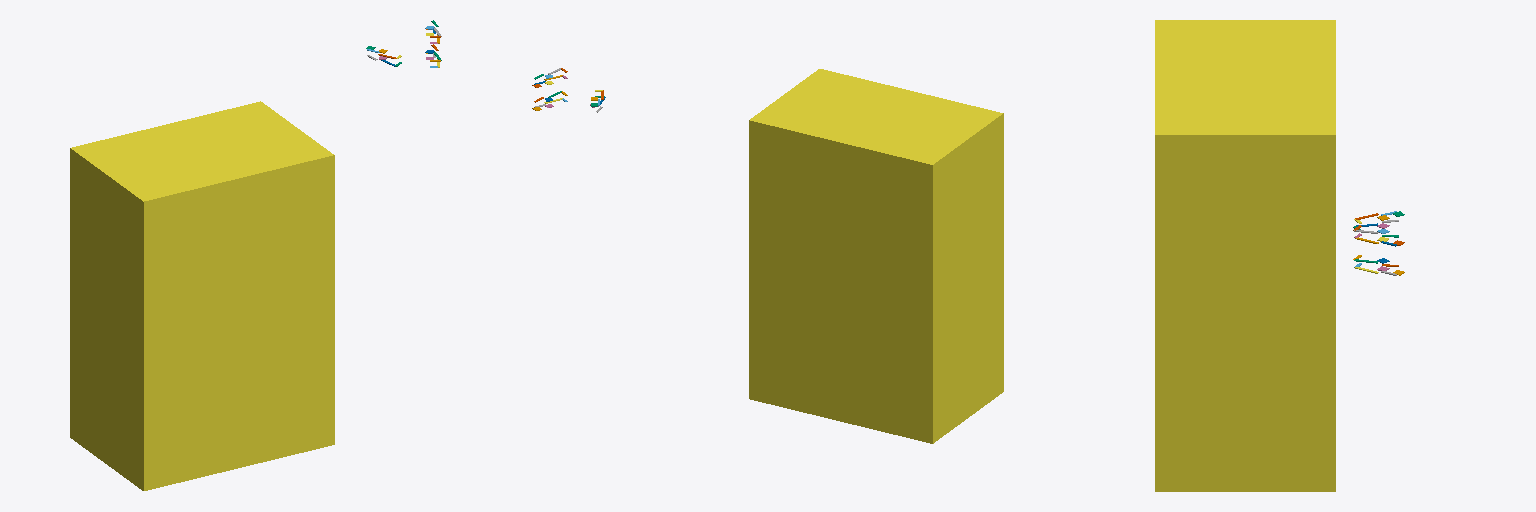
--- What the picture shows (computed from the rendered views, not written in the file) ---
The picture shows the robot from 3 angles, left to right: view 1: azimuth 30°, elevation 25°; view 2: azimuth 150°, elevation 25°; view 3: azimuth 270°, elevation 25°; orthographic projection.
Robot: ur5 — 52 links, 51 joints (45 revolute, 6 fixed); root link world; default pose: every joint at zero.
Links seen in each view (by area): view 1: box_link; view 2: box_link; view 3: box_link.
Boxes of the visible links, box(x1,y1,x2,y2) form: box_link: box(70, 101, 334, 490); box_link: box(749, 69, 1003, 443); box_link: box(1155, 20, 1335, 491).
Size in the robot's own frame: 1.23 by 0.5522 by 0.9115 metres.
Meshes: 12 distinct files referenced, 0 mesh visuals loaded (none loaded); not drawn: 20 (reference not matched to a file when rendering).

URDF robot description (ur5):
<?xml version="1.0" ?>
<!-- =================================================================================== -->
<!-- |    This document was autogenerated by xacro from ur5_joint_limited_box_robot_robotiq3.urdf.xacro | -->
<!-- |    EDITING THIS FILE BY HAND IS NOT RECOMMENDED                                 | -->
<!-- =================================================================================== -->
<robot name="ur5" xmlns:xacro="http://ros.org/wiki/xacro">
  <gazebo>
    <plugin filename="libgazebo_ros_control.so" name="ros_control">
      <!--robotNamespace>/</robotNamespace-->
      <!--robotSimType>gazebo_ros_control/DefaultRobotHWSim</robotSimType-->
    </plugin>
    <!--
    <plugin name="gazebo_ros_power_monitor_controller" filename="libgazebo_ros_power_monitor.so">
      <alwaysOn>true</alwaysOn>
      <updateRate>1.0</updateRate>
      <timeout>5</timeout>
      <powerStateTopic>power_state</powerStateTopic>
      <powerStateRate>10.0</powerStateRate>
      <fullChargeCapacity>87.78</fullChargeCapacity>     
      <dischargeRate>-474</dischargeRate>
      <chargeRate>525</chargeRate>
      <dischargeVoltage>15.52</dischargeVoltage>
      <chargeVoltage>16.41</chargeVoltage>
    </plugin>
-->
  </gazebo>
  <!-- measured from model -->
  <!--property name="shoulder_height" value="0.089159" /-->
  <!--property name="shoulder_offset" value="0.13585" /-->
  <!-- shoulder_offset - elbow_offset + wrist_1_length = 0.10915 -->
  <!--property name="upper_arm_length" value="0.42500" /-->
  <!--property name="elbow_offset" value="0.1197" /-->
  <!-- CAD measured -->
  <!--property name="forearm_length" value="0.39225" /-->
  <!--property name="wrist_1_length" value="0.093" /-->
  <!-- CAD measured -->
  <!--property name="wrist_2_length" value="0.09465" /-->
  <!-- In CAD this distance is 0.930, but in the spec it is 0.09465 -->
  <!--property name="wrist_3_length" value="0.0823" /-->
  <!-- manually measured -->
  <link name="base_link">
    <visual>
      <geometry>
        <mesh filename="package://ur_description/meshes/ur5/visual/base.dae"/>
      </geometry>
      <material name="LightGrey">
        <color rgba="0.7 0.7 0.7 1.0"/>
      </material>
    </visual>
    <collision>
      <geometry>
        <mesh filename="package://ur_description/meshes/ur5/collision/base.stl"/>
      </geometry>
    </collision>
    <inertial>
      <mass value="4.0"/>
      <origin rpy="0 0 0" xyz="0.0 0.0 0.0"/>
      <inertia ixx="0.00443333156" ixy="0.0" ixz="0.0" iyy="0.00443333156" iyz="0.0" izz="0.0072"/>
    </inertial>
  </link>
  <joint name="shoulder_pan_joint" type="revolute">
    <parent link="base_link"/>
    <child link="shoulder_link"/>
    <origin rpy="0.0 0.0 0.0" xyz="0.0 0.0 0.089159"/>
    <axis xyz="0 0 1"/>
    <limit effort="150.0"   lower="-180" upper="3.14159" velocity="3.15"/>
    <dynamics damping="0.0" friction="0.0"/>
  </joint>
  <link name="shoulder_link">
    <visual>
      <geometry>
        <mesh filename="package://ur_description/meshes/ur5/visual/shoulder.dae"/>
      </geometry>
      <material name="LightGrey">
        <color rgba="0.7 0.7 0.7 1.0"/>
      </material>
    </visual>
    <collision>
      <geometry>
        <mesh filename="package://ur_description/meshes/ur5/collision/shoulder.stl"/>
      </geometry>
    </collision>
    <inertial>
      <mass value="3.7"/>
      <origin rpy="0 0 0" xyz="0.0 0.0 0.0"/>
      <inertia ixx="0.010267495893" ixy="0.0" ixz="0.0" iyy="0.010267495893" iyz="0.0" izz="0.00666"/>
    </inertial>
  </link>
  <joint name="shoulder_lift_joint" type="revolute">
    <parent link="shoulder_link"/>
    <child link="upper_arm_link"/>
    <origin rpy="0.0 1.570796325 0.0" xyz="0.0 0.13585 0.0"/>
    <axis xyz="0 1 0"/>
    <limit effort="150.0"   lower="-3.14159" upper="3.14159" velocity="3.15"/>
    <dynamics damping="0.0" friction="0.0"/>
  </joint>
  <link name="upper_arm_link">
    <visual>
      <geometry>
        <mesh filename="package://ur_description/meshes/ur5/visual/upperarm.dae"/>
      </geometry>
      <material name="LightGrey">
        <color rgba="0.7 0.7 0.7 1.0"/>
      </material>
    </visual>
    <collision>
      <geometry>
        <mesh filename="package://ur_description/meshes/ur5/collision/upperarm.stl"/>
      </geometry>
    </collision>
    <inertial>
      <mass value="8.393"/>
      <origin rpy="0 0 0" xyz="0.0 0.0 0.28"/>
      <inertia ixx="0.22689067591" ixy="0.0" ixz="0.0" iyy="0.22689067591" iyz="0.0" izz="0.0151074"/>
    </inertial>
  </link>
  <joint name="elbow_joint" type="revolute">
    <parent link="upper_arm_link"/>
    <child link="forearm_link"/>
    <origin rpy="0.0 0.0 0.0" xyz="0.0 -0.1197 0.425"/>
    <axis xyz="0 1 0"/>
    <limit effort="150.0"   lower="-3.14159" upper="3.14159" velocity="3.15"/>
    <dynamics damping="0.0" friction="0.0"/>
  </joint>
  <link name="forearm_link">
    <visual>
      <geometry>
        <mesh filename="package://ur_description/meshes/ur5/visual/forearm.dae"/>
      </geometry>
      <material name="LightGrey">
        <color rgba="0.7 0.7 0.7 1.0"/>
      </material>
    </visual>
    <collision>
      <geometry>
        <mesh filename="package://ur_description/meshes/ur5/collision/forearm.stl"/>
      </geometry>
    </collision>
    <inertial>
      <mass value="2.275"/>
      <origin rpy="0 0 0" xyz="0.0 0.0 0.25"/>
      <inertia ixx="0.049443313556" ixy="0.0" ixz="0.0" iyy="0.049443313556" iyz="0.0" izz="0.004095"/>
    </inertial>
  </link>
  <joint name="wrist_1_joint" type="revolute">
    <parent link="forearm_link"/>
    <child link="wrist_1_link"/>
    <origin rpy="0.0 1.570796325 0.0" xyz="0.0 0.0 0.39225"/>
    <axis xyz="0 1 0"/>
    <limit effort="28.0"   lower="-3.14159" upper="3.14159" velocity="3.2"/>
    <dynamics damping="0.0" friction="0.0"/>
  </joint>
  <link name="wrist_1_link">
    <visual>
      <geometry>
        <mesh filename="package://ur_description/meshes/ur5/visual/wrist1.dae"/>
      </geometry>
      <material name="LightGrey">
        <color rgba="0.7 0.7 0.7 1.0"/>
      </material>
    </visual>
    <collision>
      <geometry>
        <mesh filename="package://ur_description/meshes/ur5/collision/wrist1.stl"/>
      </geometry>
    </collision>
    <inertial>
      <mass value="1.219"/>
      <origin rpy="0 0 0" xyz="0.0 0.0 0.0"/>
      <inertia ixx="0.111172755531" ixy="0.0" ixz="0.0" iyy="0.111172755531" iyz="0.0" izz="0.21942"/>
    </inertial>
  </link>
  <joint name="wrist_2_joint" type="revolute">
    <parent link="wrist_1_link"/>
    <child link="wrist_2_link"/>
    <origin rpy="0.0 0.0 0.0" xyz="0.0 0.093 0.0"/>
    <axis xyz="0 0 1"/>
    <limit effort="28.0"   lower="-3.14159" upper="3.14159" velocity="3.2"/>
    <dynamics damping="0.0" friction="0.0"/>
  </joint>
  <link name="wrist_2_link">
    <visual>
      <geometry>
        <mesh filename="package://ur_description/meshes/ur5/visual/wrist2.dae"/>
      </geometry>
      <material name="LightGrey">
        <color rgba="0.7 0.7 0.7 1.0"/>
      </material>
    </visual>
    <collision>
      <geometry>
        <mesh filename="package://ur_description/meshes/ur5/collision/wrist2.stl"/>
      </geometry>
    </collision>
    <inertial>
      <mass value="1.219"/>
      <origin rpy="0 0 0" xyz="0.0 0.0 0.0"/>
      <inertia ixx="0.111172755531" ixy="0.0" ixz="0.0" iyy="0.111172755531" iyz="0.0" izz="0.21942"/>
    </inertial>
  </link>
  <joint name="wrist_3_joint" type="revolute">
    <parent link="wrist_2_link"/>
    <child link="wrist_3_link"/>
    <origin rpy="0.0 0.0 0.0" xyz="0.0 0.0 0.09465"/>
    <axis xyz="0 1 0"/>
    <limit effort="28.0"   lower="-3.14159" upper="3.14159" velocity="3.2"/>
    <dynamics damping="0.0" friction="0.0"/>
  </joint>
  <link name="wrist_3_link">
    <visual>
      <geometry>
        <mesh filename="package://ur_description/meshes/ur5/visual/wrist3.dae"/>
      </geometry>
      <material name="LightGrey">
        <color rgba="0.7 0.7 0.7 1.0"/>
      </material>
    </visual>
    <collision>
      <geometry>
        <mesh filename="package://ur_description/meshes/ur5/collision/wrist3.stl"/>
      </geometry>
    </collision>
    <inertial>
      <mass value="0.1879"/>
      <origin rpy="0 0 0" xyz="0.0 0.0 0.0"/>
      <inertia ixx="0.0171364731454" ixy="0.0" ixz="0.0" iyy="0.0171364731454" iyz="0.0" izz="0.033822"/>
    </inertial>
  </link>
  <joint name="ee_fixed_joint" type="fixed">
    <parent link="wrist_3_link"/>
    <child link="ee_link"/>
    <origin rpy="0.0 0.0 1.570796325" xyz="0.0 0.0823 0.0"/>
  </joint>
  <link name="ee_link">
    <collision>
      <geometry>
        <box size="0.01 0.01 0.01"/>
      </geometry>
      <origin rpy="0 0 0" xyz="-0.01 0 0"/>
    </collision>
  </link>
  <transmission name="shoulder_pan_trans">
    <type>transmission_interface/SimpleTransmission</type>
    <joint name="shoulder_pan_joint">
      <hardwareInterface>PositionJointInterface</hardwareInterface>
    </joint>
    <actuator name="shoulder_pan_motor">
      <mechanicalReduction>1</mechanicalReduction>
    </actuator>
  </transmission>
  <transmission name="shoulder_lift_trans">
    <type>transmission_interface/SimpleTransmission</type>
    <joint name="shoulder_lift_joint">
      <hardwareInterface>PositionJointInterface</hardwareInterface>
    </joint>
    <actuator name="shoulder_lift_motor">
      <mechanicalReduction>1</mechanicalReduction>
    </actuator>
  </transmission>
  <transmission name="elbow_trans">
    <type>transmission_interface/SimpleTransmission</type>
    <joint name="elbow_joint">
      <hardwareInterface>PositionJointInterface</hardwareInterface>
    </joint>
    <actuator name="elbow_motor">
      <mechanicalReduction>1</mechanicalReduction>
    </actuator>
  </transmission>
  <transmission name="wrist_1_trans">
    <type>transmission_interface/SimpleTransmission</type>
    <joint name="wrist_1_joint">
      <hardwareInterface>PositionJointInterface</hardwareInterface>
    </joint>
    <actuator name="wrist_1_motor">
      <mechanicalReduction>1</mechanicalReduction>
    </actuator>
  </transmission>
  <transmission name="wrist_2_trans">
    <type>transmission_interface/SimpleTransmission</type>
    <joint name="wrist_2_joint">
      <hardwareInterface>PositionJointInterface</hardwareInterface>
    </joint>
    <actuator name="wrist_2_motor">
      <mechanicalReduction>1</mechanicalReduction>
    </actuator>
  </transmission>
  <transmission name="wrist_3_trans">
    <type>transmission_interface/SimpleTransmission</type>
    <joint name="wrist_3_joint">
      <hardwareInterface>PositionJointInterface</hardwareInterface>
    </joint>
    <actuator name="wrist_3_motor">
      <mechanicalReduction>1</mechanicalReduction>
    </actuator>
  </transmission>
  <!-- nothing to do here at the moment -->
  <!-- ROS base_link to UR 'Base' Coordinates transform -->
  <link name="base"/>
  <joint name="base_link-base_fixed_joint" type="fixed">
    <!-- NOTE: this rotation is only needed as long as base_link itself is
                 not corrected wrt the real robot (ie: rotated over 180
                 degrees)
      -->
    <origin rpy="0 0 -3.14159265" xyz="0 0 0"/>
    <parent link="base_link"/>
    <child link="base"/>
  </joint>
  <!-- Frame coincident with all-zeros TCP on UR controller -->
  <link name="tool0"/>
  <joint name="wrist_3_link-tool0_fixed_joint" type="fixed">
    <origin rpy="-1.570796325 0 0" xyz="0 0.0823 0"/>
    <parent link="wrist_3_link"/>
    <child link="tool0"/>
  </joint>
  <link name="world"/>
  <!-- box -->
  <link name="box_link">
    <visual>
      <geometry>
        <box size=".6 .4 0.87"/>
      </geometry>
    </visual>
  </link>
  <!-- attach the box to the world-->
  <joint name="world_joint" type="fixed">
    <parent link="world"/>
    <child link="box_link"/>
    <origin rpy="0.0 0.0 0.0" xyz="0.0 0 0.435"/>
  </joint>
  <!-- attach the robot to the box -->
  <joint name="box_joint" type="fixed">
    <parent link="box_link"/>
    <child link="base_link"/>
    <origin rpy="0.0 0.0 0.0" xyz="0.0 0.0 0.435"/>
  </joint>
  <!-- joint attaching parent link to robotiq hand -->
  <joint name="gripperrobotiq_hand_joint" type="fixed">
    <origin rpy="1.570796325 0 0" xyz="0 0 0.0423"/>
    <parent link="tool0"/>
    <child link="gripperpalm"/>
  </joint>
  <!-- Link list -->
  <!-- Link 0 -->
  <link name="gripperfinger_1_link_0">
    <visual>
      <origin rpy="0 0 0" xyz="0 0 0"/>
      <geometry>
        <mesh filename="package://robotiq_s_model_visualization/meshes/s-model_articulated/visual/link_0.STL"/>
      </geometry>
      <material name="green">
        <color rgba="0 1 0 1"/>
      </material>
    </visual>
    <collision>
      <origin rpy="0 0 0" xyz="0 0 0"/>
      <geometry>
        <mesh filename="package://robotiq_s_model_visualization/meshes/s-model_articulated/collision/link_0.STL"/>
      </geometry>
      <material name="yellow">
        <color rgba="0 1 1 1"/>
      </material>
    </collision>
    <inertial>
      <mass value="0.1"/>
      <origin xyz="-0.01 0 0"/>
      <inertia ixx="0.000018" ixy="0" ixz="0" iyy="0.000025" iyz="0" izz="0.000025"/>
    </inertial>
  </link>
  <gazebo reference="gripperfinger_1_link_0">
    <mu1>1.1</mu1>
    <mu2>1.1</mu2>
  </gazebo>
  <!-- Link 1 -->
  <link name="gripperfinger_1_link_1">
    <visual>
      <origin rpy="0 0 1.5708" xyz="0 0.05717 0"/>
      <geometry>
        <mesh filename="package://robotiq_s_model_visualization/meshes/s-model_articulated/visual/link_1.STL"/>
      </geometry>
      <material name="green"/>
    </visual>
    <collision>
      <origin rpy="0 0 1.5708" xyz="0 0.05717 0"/>
      <geometry>
        <mesh filename="package://robotiq_s_model_visualization/meshes/s-model_articulated/collision/link_1.STL"/>
      </geometry>
      <material name="yellow">
        <color rgba="0 1 1 1"/>
      </material>
    </collision>
    <inertial>
      <origin rpy="0 0 1.5708" xyz="0.00053 0.03218 0"/>
      <mass value="0.047"/>
      <inertia ixx="0.00000499332" ixy="0.00000091312" ixz="-0.00000000120" iyy="0.00006434531" iyz="-0.00000000007" izz="0.00006061917"/>
    </inertial>
  </link>
  <gazebo reference="gripperfinger_1_link_1">
    <mu1>1.1</mu1>
    <mu2>1.1</mu2>
  </gazebo>
  <!-- Link 2 -->
  <link name="gripperfinger_1_link_2">
    <visual>
      <origin rpy="0 0 1.5708" xyz="0 0.03810 0.0075"/>
      <geometry>
        <mesh filename="package://robotiq_s_model_visualization/meshes/s-model_articulated/visual/link_2.STL"/>
      </geometry>
      <material name="green"/>
    </visual>
    <collision>
      <origin rpy="0 0 1.5708" xyz="0 0.03810 0.0075"/>
      <geometry>
        <mesh filename="package://robotiq_s_model_visualization/meshes/s-model_articulated/collision/link_2.STL"/>
      </geometry>
      <material name="yellow"/>
    </collision>
    <inertial>
      <origin rpy="0 0 1.5708" xyz="0.00048 0.02167 0.00018"/>
      <mass value="0.03284"/>
      <inertia ixx="0.00000348008" ixy="0.00000031940" ixz="0.00000013041" iyy="0.00002248123" iyz="0.00000000291" izz="0.00001986346"/>
    </inertial>
  </link>
  <gazebo reference="gripperfinger_1_link_2">
    <mu1>1.1</mu1>
    <mu2>1.1</mu2>
  </gazebo>
  <!-- Link 3 -->
  <link name="gripperfinger_1_link_3">
    <visual>
      <origin rpy="0 0 0" xyz="0 0 0"/>
      <geometry>
        <mesh filename="package://robotiq_s_model_visualization/meshes/s-model_articulated/visual/link_3.STL"/>
      </geometry>
      <material name="green"/>
    </visual>
    <collision>
      <origin rpy="0 0 0" xyz="0 0 0"/>
      <geometry>
        <mesh filename="package://robotiq_s_model_visualization/meshes/s-model_articulated/collision/link_3.STL"/>
      </geometry>
      <material name="yellow"/>
    </collision>
    <inertial>
      <origin rpy="0 0 0" xyz="0.01626 0.00049 0.0002"/>
      <mass value="0.03354"/>
      <inertia ixx="0.00000305151" ixy="0.00000089792" ixz="0.00000000249" iyy="0.00001427978" iyz="-0.00000001191" izz="0.00001264126"/>
    </inertial>
  </link>
  <gazebo reference="gripperfinger_1_link_3">
    <mu1>1.1</mu1>
    <mu2>1.1</mu2>
  </gazebo>
  <!-- Link proximal actuating hinge -->
  <link name="gripperfinger_1_link_proximal_actuating_hinge">
    <visual>
      <origin rpy="0 0 0" xyz="0.01429 0 0"/>
      <geometry>
        <box size="0.02858 .0075 .002"/>
      </geometry>
    </visual>
    <collision>
      <origin rpy="0 0 0" xyz="0.01429 0 0"/>
      <geometry>
        <box size="0.02858 .0075 .002"/>
      </geometry>
    </collision>
    <inertial>
      <origin rpy="0 0 0" xyz="0.0012 -0.00162 -0.00161"/>
      <mass value="0.02647"/>
      <inertia ixx="0.00000156447" ixy="0.000000236226" ixz="-0.00000014862" iyy="0.00000221068" iyz="-0.00000014369" izz="0.00000323175"/>
    </inertial>
  </link>
  <gazebo reference="gripperfinger_1_link_proximal_actuating_hinge">
    <mu1>1.1</mu1>
    <mu2>1.1</mu2>
  </gazebo>
  <!-- Link paraproximal actuating hinge -->
  <link name="gripperfinger_1_link_paraproximal_actuating_hinge">
    <visual>
      <origin rpy="0 0 0" xyz="0.01143 0 0"/>
      <geometry>
        <box size="0.02286 .0075 .002"/>
      </geometry>
    </visual>
    <collision>
      <origin rpy="0 0 0" xyz="0.01143 0 0"/>
      <geometry>
        <box size="0.02286 .0075 .002"/>
      </geometry>
    </collision>
    <inertial>
      <origin rpy="0 0 0" xyz="0.0064 0 0"/>
      <!-- copied from proximal_actuating_hinge -->
      <mass value="0.00362"/>
      <inertia ixx="0.00000012043" ixy="0" ixz="0" iyy="0.00000053588" iyz="0" izz="0.00000065322"/>
    </inertial>
  </link>
  <gazebo reference="gripperfinger_1_link_paraproximal_actuating_hinge">
    <mu1>1.1</mu1>
    <mu2>1.1</mu2>
  </gazebo>
  <!-- Link proximal actuating bar -->
  <link name="gripperfinger_1_link_proximal_actuating_bar">
    <visual>
      <origin rpy="0 0 0" xyz="0.026789 0 0"/>
      <geometry>
        <box size="0.05398 .0075 .002"/>
      </geometry>
    </visual>
    <collision>
      <origin rpy="0 0 0" xyz="0.026789 0 0"/>
      <geometry>
        <box size="0.05398 .0075 .002"/>
      </geometry>
    </collision>
    <inertial>
      <origin rpy="0 0 0" xyz="0.02699 -0.00122 0"/>
      <mass value="0.00659"/>
      <inertia ixx="0.00000008348" ixy="-0.0000002179" ixz="0.00000000134" iyy="0.00000719076" iyz="0" izz="0.00000718272"/>
    </inertial>
  </link>
  <gazebo reference="gripperfinger_1_link_proximal_actuating_bar">
    <mu1>1.1</mu1>
    <mu2>1.1</mu2>
  </gazebo>
  <!-- Link paraproximal bar -->
  <link name="gripperfinger_1_link_paraproximal_bar">
    <visual>
      <origin rpy="0 0 0" xyz="0.02885 0 0"/>
      <geometry>
        <box size="0.05770 .0075 .002"/>
      </geometry>
    </visual>
    <collision>
      <origin rpy="0 0 0" xyz="0.02885 0 0"/>
      <geometry>
        <box size="0.05770 .0075 .002"/>
      </geometry>
    </collision>
    <inertial>
      <origin rpy="0 0 0" xyz="0.02858 -0.00129 0"/>
      <mass value="0.00732"/>
      <inertia ixx="0.00000009065" ixy="-0.00000027047" ixz="0.00000000142" iyy="0.00000878034" iyz="0" izz="0.00000877558"/>
    </inertial>
  </link>
  <gazebo reference="gripperfinger_1_link_paraproximal_bar">
    <mu1>1.1</mu1>
    <mu2>1.1</mu2>
  </gazebo>
  <!-- Link median actuating hinge -->
  <link name="gripperfinger_1_link_median_actuating_hinge">
    <visual>
      <origin rpy="0 0 0" xyz="0 0 0"/>
      <geometry>
        <box size=".02 .02 .002"/>
      </geometry>
    </visual>
    <collision>
      <origin rpy="0 0 0" xyz="0 0 0"/>
      <geometry>
        <box size=".02 .02 .002"/>
      </geometry>
    </collision>
    <inertial>
      <origin rpy="0 0 0" xyz="0.0092 0.00514 0"/>
      <mass value="0.00359"/>
      <inertia ixx="0.00000024735" ixy="0.00000023619" ixz="0" iyy="0.00000047681" iyz="0" izz="0.00000071813"/>
    </inertial>
  </link>
  <gazebo reference="gripperfinger_1_link_median_actuating_hinge">
    <mu1>1.1</mu1>
    <mu2>1.1</mu2>
  </gazebo>
  <!-- Link median bar -->
  <link name="gripperfinger_1_link_median_bar">
    <visual>
      <origin rpy="0 0 0" xyz="0.01905 0 0"/>
      <geometry>
        <box size="0.0381 .0075 .002"/>
      </geometry>
    </visual>
    <collision>
      <origin rpy="0 0 0" xyz="0.01905 0 0"/>
      <geometry>
        <box size="0.0381 .0075 .002"/>
      </geometry>
    </collision>
    <inertial>
      <origin rpy="0 0 0" xyz="0.01905 -0.00107 0"/>
      <mass value="0.00538"/>
      <inertia ixx="0.00000006639" ixy="-0.00000010996" ixz="0.00000000094" iyy="0.00000305318" iyz="0" izz="0.00000304657"/>
    </inertial>
  </link>
  <gazebo reference="gripperfinger_1_link_median_bar">
    <mu1>1.1</mu1>
    <mu2>1.1</mu2>
  </gazebo>
  <!-- Link paramedian hinge -->
  <link name="gripperfinger_1_link_paramedian_hinge">
    <visual>
      <origin rpy="0 0 0" xyz="0 0 0"/>
      <geometry>
        <box size=".02 .02 .002"/>
      </geometry>
    </visual>
    <collision>
      <origin rpy="0 0 0" xyz="0 0 0"/>
      <geometry>
        <box size=".02 .02 .002"/>
      </geometry>
    </collision>
    <inertial>
      <origin rpy="0 0 0" xyz="-0.01025 0.00046 0"/>
      <mass value="0.00276"/>
      <inertia ixx="0.00000004213" ixy="-0.00000001491" ixz="0" iyy="0.00000050258" iyz="0" izz="0.00000054007"/>
    </inertial>
  </link>
  <gazebo reference="gripperfinger_1_link_paramedian_hinge">
    <mu1>1.1</mu1>
    <mu2>1.1</mu2>
  </gazebo>
  <!-- Link median bar underactuated -->
  <link name="gripperfinger_1_link_median_bar_underactuated">
    <visual>
      <origin rpy="0 0 0" xyz="0.01905 0 0"/>
      <geometry>
        <box size="0.0381 .0075 .002"/>
      </geometry>
    </visual>
    <collision>
      <origin rpy="0 0 0" xyz="0.01905 0 0"/>
      <geometry>
        <box size="0.0381 .0075 .002"/>
      </geometry>
    </collision>
    <inertial>
      <origin rpy="0 0 0" xyz="0.01905 -0.00107 0"/>
      <mass value="0.00538"/>
      <inertia ixx="0.00000006639" ixy="-0.00000010996" ixz="-0.00000000094" iyy="0.00000305318" iyz="0" izz="0.00000304657"/>
    </inertial>
  </link>
  <gazebo reference="gripperfinger_1_link_median_bar_underactuated">
    <mu1>1.1</mu1>
    <mu2>1.1</mu2>
  </gazebo>
  <!-- Link paradistal hinge -->
  <link name="gripperfinger_1_link_paradistal_hinge">
    <visual>
      <origin rpy="0 0 0" xyz="0 0 0"/>
      <geometry>
        <box size=".02 .02 .002"/>
      </geometry>
    </visual>
    <collision>
      <origin rpy="0 0 0" xyz="0 0 0"/>
      <geometry>
        <box size=".02 0.02 .002"/>
      </geometry>
    </collision>
    <inertial>
      <origin rpy="0 0 0" xyz="0.00548 0 0"/>
      <mass value="0.00158"/>
      <inertia ixx="0.00000001907" ixy="0" ixz="0" iyy="0.00000010970" iyz="0" izz="0.00000012610"/>
    </inertial>
  </link>
  <gazebo reference="gripperfinger_1_link_paradistal_hinge">
    <mu1>1.1</mu1>
    <mu2>1.1</mu2>
  </gazebo>
  <!-- End of link list -->
  <!-- Joint list -->
  <!-- Joint proximal actuating hinge -->
  <joint name="gripperfinger_1_joint_proximal_actuating_hinge" type="revolute">
    <parent link="gripperfinger_1_link_0"/>
    <child link="gripperfinger_1_link_proximal_actuating_hinge"/>
    <axis xyz="0 0 1"/>
    <origin rpy="0 0 -2.0906" xyz="0 0 0.01"/>
    <limit effort="100" lower="-3.1416" upper="3.1416" velocity="100"/>
  </joint>
  <gazebo reference="gripperfinger_1_joint_proximal_actuating_hinge">
    <implicitSpringDamper>1</implicitSpringDamper>
  </gazebo>
  <!-- Joint paraproximal actuating hinge -->
  <joint name="gripperfinger_1_joint_paraproximal_actuating_hinge" type="revolute">
    <parent link="gripperfinger_1_link_0"/>
    <child link="gripperfinger_1_link_paraproximal_actuating_hinge"/>
    <axis xyz="0 0 1"/>
    <origin rpy="0 0 -2.0906" xyz="0 0 -0.01"/>
    <limit effort="100" lower="-3.1416" upper="3.1416" velocity="100"/>
  </joint>
  <gazebo reference="gripperfinger_1_joint_paraproximal_actuating_hinge">
    <implicitSpringDamper>1</implicitSpringDamper>
  </gazebo>
  <!-- Joint proximal actuating bar -->
  <joint name="gripperfinger_1_joint_proximal_actuating_bar" type="revolute">
    <parent link="gripperfinger_1_link_proximal_actuating_hinge"/>
    <child link="gripperfinger_1_link_proximal_actuating_bar"/>
    <axis xyz="0 0 1"/>
    <origin rpy="0 0 1.8616" xyz="0.02858 0 0"/>
    <limit effort="100" lower="-3.1416" upper="3.1416" velocity="100"/>
  </joint>
  <gazebo reference="gripperfinger_1_joint_proximal_actuating_bar">
    <implicitSpringDamper>1</implicitSpringDamper>
  </gazebo>
  <!-- Joint paraproximal bar -->
  <joint name="gripperfinger_1_joint_paraproximal_bar" type="revolute">
    <parent link="gripperfinger_1_link_paraproximal_actuating_hinge"/>
    <child link="gripperfinger_1_link_paraproximal_bar"/>
    <axis xyz="0 0 1"/>
    <origin rpy="0 0 1.57" xyz="0.02286 0 0"/>
    <limit effort="100" lower="-3.1416" upper="3.1416" velocity="100"/>
  </joint>
  <gazebo reference="gripperfinger_1_joint_paraproximal_bar">
    <implicitSpringDamper>1</implicitSpringDamper>
  </gazebo>
  <!-- Joint median actuating hinge -->
  <joint name="gripperfinger_1_joint_median_actuating_hinge" type="revolute">
    <parent link="gripperfinger_1_link_1"/>
    <child link="gripperfinger_1_link_median_actuating_hinge"/>
    <axis xyz="0 0 1"/>
    <origin rpy="0 0 -0.37" xyz="0 0.05715 0.01"/>
    <limit effort="100" lower="-3.1416" upper="3.1416" velocity="100"/>
  </joint>
  <gazebo reference="gripperfinger_1_joint_median_actuating_hinge">
    <implicitSpringDamper>1</implicitSpringDamper>
  </gazebo>
  <!-- Joint paramedian hinge -->
  <joint name="gripperfinger_1_joint_paramedian_hinge" type="revolute">
    <parent link="gripperfinger_1_link_1"/>
    <child link="gripperfinger_1_link_paramedian_hinge"/>
    <axis xyz="0 0 1"/>
    <!-- -0.37 is hand picked, 0.9719 is hand calculated from atan(0.02381/0.01625) -->
    <origin rpy="0 0 0" xyz="0 0.05715 -0.01"/>
    <limit effort="100" lower="-3.1416" upper="3.1416" velocity="100"/>
  </joint>
  <gazebo reference="gripperfinger_1_joint_paramedian_hinge">
    <implicitSpringDamper>1</implicitSpringDamper>
  </gazebo>
  <!-- Joint median actuating hinge median bar -->
  <joint name="gripperfinger_1_joint_median_actuating_hinge_median_bar" type="revolute">
    <parent link="gripperfinger_1_link_median_actuating_hinge"/>
    <child link="gripperfinger_1_link_median_bar"/>
    <axis xyz="0 0 1"/>
    <!-- hand calc 90 deg + atan(0.01516/0.01625) -->
    <origin rpy="0 0 2.3215" xyz="0.01625 0.01516 0"/>
    <limit effort="100" lower="-3.1416" upper="3.1416" velocity="100"/>
  </joint>
  <gazebo reference="gripperfinger_1_joint_median_actuating_hinge_median_bar">
    <implicitSpringDamper>1</implicitSpringDamper>
  </gazebo>
  <!-- Joint paradistal hinge -->
  <joint name="gripperfinger_1_joint_paradistal_hinge" type="revolute">
    <parent link="gripperfinger_1_link_2"/>
    <child link="gripperfinger_1_link_paradistal_hinge"/>
    <axis xyz="0 0 1"/>
    <origin rpy="0 0 0" xyz="0 0.039 -0.01"/>
    <limit effort="100" lower="-3.1416" upper="3.1416" velocity="100"/>
  </joint>
  <gazebo reference="gripperfinger_1_joint_paradistal_hinge">
    <implicitSpringDamper>1</implicitSpringDamper>
  </gazebo>
  <!-- Joint paramedian hinge median bar underactuated -->
  <joint name="gripperfinger_1_joint_paramedian_hinge_median_bar_underactuated" type="revolute">
    <parent link="gripperfinger_1_link_paramedian_hinge"/>
    <child link="gripperfinger_1_link_median_bar_underactuated"/>
    <axis xyz="0 0 1"/>
    <!-- hand calc 90 deg + atan(0.01227/0.00329) -->
    <origin rpy="0 0 1.5708" xyz="0.01227 0.00329 0"/>
    <limit effort="100" lower="-3.1416" upper="3.1416" velocity="100"/>
  </joint>
  <gazebo reference="gripperfinger_1_joint_paramedian_hinge_median_bar_underactuated">
    <implicitSpringDamper>1</implicitSpringDamper>
  </gazebo>
  <!-- Joint 1 -->
  <joint name="gripperfinger_1_joint_1" type="revolute">
    <origin rpy="0 0 -2.0906" xyz="0 0 0"/>
    <axis xyz="0 0 1"/>
    <parent link="gripperfinger_1_link_0"/>
    <child link="gripperfinger_1_link_1"/>
    <dynamics damping="1" friction="0"/>
    <!-- Limits: [0deg.,70deg.] -->
    <limit effort="60" lower="0" upper="1.2217" velocity="-1"/>
  </joint>
  <gazebo reference="gripperfinger_1_joint_1">
    <implicitSpringDamper>1</implicitSpringDamper>
  </gazebo>
  <!-- Joint 2 -->
  <joint name="gripperfinger_1_joint_2" type="revolute">
    <parent link="gripperfinger_1_link_1"/>
    <child link="gripperfinger_1_link_2"/>
    <dynamics damping="1" friction="0"/>
    <axis xyz="0 0 1"/>
    <origin rpy="0 0 0" xyz="0 0.05715 0"/>
    <!-- Limits: [0deg.,90deg.] -->
    <limit effort="60" lower="0" upper="1.5708" velocity="-1"/>
  </joint>
  <gazebo reference="gripperfinger_1_joint_2">
    <implicitSpringDamper>1</implicitSpringDamper>
  </gazebo>
  <!-- Joint 3 -->
  <joint name="gripperfinger_1_joint_3" type="revolute">
    <parent link="gripperfinger_1_link_2"/>
    <child link="gripperfinger_1_link_3"/>
    <dynamics damping="1" friction="0"/>
    <axis xyz="0 0 1"/>
    <origin rpy="0 0 2.0906" xyz="0 0.039 0"/>
    <!-- Limits: [-38deg.,60deg.] -->
    <limit effort="60" lower="-0.6632" upper="1.0471" velocity="-1"/>
  </joint>
  <gazebo reference="gripperfinger_1_joint_3">
    <implicitSpringDamper>1</implicitSpringDamper>
  </gazebo>
  <!-- end of joint list -->
  <!-- coupling joints in sdf -->
  <gazebo>
    <joint name="gripperfinger_1_link_proximal_actuating_bar_median_actuating_hinge_couple" type="revolute">
      <parent>gripperfinger_1_link_median_actuating_hinge</parent>
      <child>gripperfinger_1_link_proximal_actuating_bar</child>
      <pose>0.05398 0 0 0 0 0</pose>
      <axis>
        <dynamics>
          <damping>0</damping>
          <friction>0</friction>
        </dynamics>
        <xyz>0 0 1</xyz>
        <!-- <use_parent_model_frame>false</use_parent_model_frame> -->
      </axis>
    </joint>
  </gazebo>
  <gazebo reference="gripperfinger_1_link_proximal_actuating_bar_median_actuating_hinge_couple">
    <implicitSpringDamper>1</implicitSpringDamper>
  </gazebo>
  <gazebo>
    <joint name="gripperfinger_1_link_median_bar_link_3_couple" type="revolute">
      <parent>gripperfinger_1_link_3</parent>
      <child>gripperfinger_1_link_median_bar</child>
      <pose>0.0381 0 0 0 0 0</pose>
      <axis>
        <dynamics>
          <damping>0</damping>
          <friction>0</friction>
        </dynamics>
        <xyz>0 0 1</xyz>
        <!-- <use_parent_model_frame>false</use_parent_model_frame> -->
      </axis>
    </joint>
  </gazebo>
  <gazebo reference="gripperfinger_1_link_median_bar_link_3_couple">
    <implicitSpringDamper>1</implicitSpringDamper>
  </gazebo>
  <gazebo>
    <joint name="gripperfinger_1_link_paramedian_bar_paradistal_hinge_couple" type="revolute">
      <parent>gripperfinger_1_link_paradistal_hinge</parent>
      <child>gripperfinger_1_link_median_bar_underactuated</child>
      <pose>0.0381 0 0 0 0 0</pose>
      <axis>
        <dynamics>
          <damping>0</damping>
          <friction>0</friction>
        </dynamics>
        <xyz>0 0 1</xyz>
        <!-- <use_parent_model_frame>false</use_parent_model_frame> -->
      </axis>
    </joint>
  </gazebo>
  <gazebo reference="gripperfinger_1_link_median_bar_link_3_couple">
    <implicitSpringDamper>1</implicitSpringDamper>
  </gazebo>
  <gazebo>
    <joint name="gripperfinger_1_link_paradistal_hinge_link_3_couple" type="revolute">
      <parent>gripperfinger_1_link_paradistal_hinge</parent>
      <child>gripperfinger_1_link_3</child>
      <pose>0.0381 0 0 0 0 0</pose>
      <axis>
        <dynamics>
          <damping>0</damping>
          <friction>0</friction>
        </dynamics>
        <xyz>0 0 1</xyz>
        <!-- <use_parent_model_frame>false</use_parent_model_frame> -->
      </axis>
    </joint>
  </gazebo>
  <gazebo reference="gripperfinger_1_link_paradistal_hinge_link_3_couple">
    <implicitSpringDamper>1</implicitSpringDamper>
  </gazebo>
  <gazebo>
    <joint name="gripperfinger_1_link_paraproximal_bar_paramedian_hinge_couple" type="revolute">
      <parent>gripperfinger_1_link_paramedian_hinge</parent>
      <child>gripperfinger_1_link_paraproximal_bar</child>
      <pose>0.05770 0 0 0 0 0</pose>
      <axis>
        <dynamics>
          <damping>0</damping>
          <friction>0</friction>
        </dynamics>
        <xyz>0 0 1</xyz>
        <!-- <use_parent_model_frame>false</use_parent_model_frame> -->
      </axis>
    </joint>
  </gazebo>
  <gazebo reference="gripperfinger_1_link_paraproximal_bar_paramedian_hinge_couple">
    <implicitSpringDamper>1</implicitSpringDamper>
  </gazebo>
  <!-- Link list -->
  <!-- Link 0 -->
  <link name="gripperfinger_2_link_0">
    <visual>
      <origin rpy="0 0 0" xyz="0 0 0"/>
      <geometry>
        <mesh filename="package://robotiq_s_model_visualization/meshes/s-model_articulated/visual/link_0.STL"/>
      </geometry>
      <material name="green">
        <color rgba="0 1 0 1"/>
      </material>
    </visual>
    <collision>
      <origin rpy="0 0 0" xyz="0 0 0"/>
      <geometry>
        <mesh filename="package://robotiq_s_model_visualization/meshes/s-model_articulated/collision/link_0.STL"/>
      </geometry>
      <material name="yellow">
        <color rgba="0 1 1 1"/>
      </material>
    </collision>
    <inertial>
      <mass value="0.1"/>
      <origin xyz="-0.01 0 0"/>
      <inertia ixx="0.000018" ixy="0" ixz="0" iyy="0.000025" iyz="0" izz="0.000025"/>
    </inertial>
  </link>
  <gazebo reference="gripperfinger_2_link_0">
    <mu1>1.1</mu1>
    <mu2>1.1</mu2>
  </gazebo>
  <!-- Link 1 -->
  <link name="gripperfinger_2_link_1">
    <visual>
      <origin rpy="0 0 1.5708" xyz="0 0.05717 0"/>
      <geometry>
        <mesh filename="package://robotiq_s_model_visualization/meshes/s-model_articulated/visual/link_1.STL"/>
      </geometry>
      <material name="green"/>
    </visual>
    <collision>
      <origin rpy="0 0 1.5708" xyz="0 0.05717 0"/>
      <geometry>
        <mesh filename="package://robotiq_s_model_visualization/meshes/s-model_articulated/collision/link_1.STL"/>
      </geometry>
      <material name="yellow">
        <color rgba="0 1 1 1"/>
      </material>
    </collision>
    <inertial>
      <origin rpy="0 0 1.5708" xyz="0.00053 0.03218 0"/>
      <mass value="0.047"/>
      <inertia ixx="0.00000499332" ixy="0.00000091312" ixz="-0.00000000120" iyy="0.00006434531" iyz="-0.00000000007" izz="0.00006061917"/>
    </inertial>
  </link>
  <gazebo reference="gripperfinger_2_link_1">
    <mu1>1.1</mu1>
    <mu2>1.1</mu2>
  </gazebo>
  <!-- Link 2 -->
  <link name="gripperfinger_2_link_2">
    <visual>
      <origin rpy="0 0 1.5708" xyz="0 0.03810 0.0075"/>
      <geometry>
        <mesh filename="package://robotiq_s_model_visualization/meshes/s-model_articulated/visual/link_2.STL"/>
      </geometry>
      <material name="green"/>
    </visual>
    <collision>
      <origin rpy="0 0 1.5708" xyz="0 0.03810 0.0075"/>
      <geometry>
        <mesh filename="package://robotiq_s_model_visualization/meshes/s-model_articulated/collision/link_2.STL"/>
      </geometry>
      <material name="yellow"/>
    </collision>
    <inertial>
      <origin rpy="0 0 1.5708" xyz="0.00048 0.02167 0.00018"/>
      <mass value="0.03284"/>
      <inertia ixx="0.00000348008" ixy="0.00000031940" ixz="0.00000013041" iyy="0.00002248123" iyz="0.00000000291" izz="0.00001986346"/>
    </inertial>
  </link>
  <gazebo reference="gripperfinger_2_link_2">
    <mu1>1.1</mu1>
    <mu2>1.1</mu2>
  </gazebo>
  <!-- Link 3 -->
  <link name="gripperfinger_2_link_3">
    <visual>
      <origin rpy="0 0 0" xyz="0 0 0"/>
      <geometry>
        <mesh filename="package://robotiq_s_model_visualization/meshes/s-model_articulated/visual/link_3.STL"/>
      </geometry>
      <material name="green"/>
    </visual>
    <collision>
      <origin rpy="0 0 0" xyz="0 0 0"/>
      <geometry>
        <mesh filename="package://robotiq_s_model_visualization/meshes/s-model_articulated/collision/link_3.STL"/>
      </geometry>
      <material name="yellow"/>
    </collision>
    <inertial>
      <origin rpy="0 0 0" xyz="0.01626 0.00049 0.0002"/>
      <mass value="0.03354"/>
      <inertia ixx="0.00000305151" ixy="0.00000089792" ixz="0.00000000249" iyy="0.00001427978" iyz="-0.00000001191" izz="0.00001264126"/>
    </inertial>
  </link>
  <gazebo reference="gripperfinger_2_link_3">
    <mu1>1.1</mu1>
    <mu2>1.1</mu2>
  </gazebo>
  <!-- Link proximal actuating hinge -->
  <link name="gripperfinger_2_link_proximal_actuating_hinge">
    <visual>
      <origin rpy="0 0 0" xyz="0.01429 0 0"/>
      <geometry>
        <box size="0.02858 .0075 .002"/>
      </geometry>
    </visual>
    <collision>
      <origin rpy="0 0 0" xyz="0.01429 0 0"/>
      <geometry>
        <box size="0.02858 .0075 .002"/>
      </geometry>
    </collision>
    <inertial>
      <origin rpy="0 0 0" xyz="0.0012 -0.00162 -0.00161"/>
      <mass value="0.02647"/>
      <inertia ixx="0.00000156447" ixy="0.000000236226" ixz="-0.00000014862" iyy="0.00000221068" iyz="-0.00000014369" izz="0.00000323175"/>
    </inertial>
  </link>
  <gazebo reference="gripperfinger_2_link_proximal_actuating_hinge">
    <mu1>1.1</mu1>
    <mu2>1.1</mu2>
  </gazebo>
  <!-- Link paraproximal actuating hinge -->
  <link name="gripperfinger_2_link_paraproximal_actuating_hinge">
    <visual>
      <origin rpy="0 0 0" xyz="0.01143 0 0"/>
      <geometry>
        <box size="0.02286 .0075 .002"/>
      </geometry>
    </visual>
    <collision>
      <origin rpy="0 0 0" xyz="0.01143 0 0"/>
      <geometry>
        <box size="0.02286 .0075 .002"/>
      </geometry>
    </collision>
    <inertial>
      <origin rpy="0 0 0" xyz="0.0064 0 0"/>
      <!-- copied from proximal_actuating_hinge -->
      <mass value="0.00362"/>
      <inertia ixx="0.00000012043" ixy="0" ixz="0" iyy="0.00000053588" iyz="0" izz="0.00000065322"/>
    </inertial>
  </link>
  <gazebo reference="gripperfinger_2_link_paraproximal_actuating_hinge">
    <mu1>1.1</mu1>
    <mu2>1.1</mu2>
  </gazebo>
  <!-- Link proximal actuating bar -->
  <link name="gripperfinger_2_link_proximal_actuating_bar">
    <visual>
      <origin rpy="0 0 0" xyz="0.026789 0 0"/>
      <geometry>
        <box size="0.05398 .0075 .002"/>
      </geometry>
    </visual>
    <collision>
      <origin rpy="0 0 0" xyz="0.026789 0 0"/>
      <geometry>
        <box size="0.05398 .0075 .002"/>
      </geometry>
    </collision>
    <inertial>
      <origin rpy="0 0 0" xyz="0.02699 -0.00122 0"/>
      <mass value="0.00659"/>
      <inertia ixx="0.00000008348" ixy="-0.0000002179" ixz="0.00000000134" iyy="0.00000719076" iyz="0" izz="0.00000718272"/>
    </inertial>
  </link>
  <gazebo reference="gripperfinger_2_link_proximal_actuating_bar">
    <mu1>1.1</mu1>
    <mu2>1.1</mu2>
  </gazebo>
  <!-- Link paraproximal bar -->
  <link name="gripperfinger_2_link_paraproximal_bar">
    <visual>
      <origin rpy="0 0 0" xyz="0.02885 0 0"/>
      <geometry>
        <box size="0.05770 .0075 .002"/>
      </geometry>
    </visual>
    <collision>
      <origin rpy="0 0 0" xyz="0.02885 0 0"/>
      <geometry>
        <box size="0.05770 .0075 .002"/>
      </geometry>
    </collision>
    <inertial>
      <origin rpy="0 0 0" xyz="0.02858 -0.00129 0"/>
      <mass value="0.00732"/>
      <inertia ixx="0.00000009065" ixy="-0.00000027047" ixz="0.00000000142" iyy="0.00000878034" iyz="0" izz="0.00000877558"/>
    </inertial>
  </link>
  <gazebo reference="gripperfinger_2_link_paraproximal_bar">
    <mu1>1.1</mu1>
    <mu2>1.1</mu2>
  </gazebo>
  <!-- Link median actuating hinge -->
  <link name="gripperfinger_2_link_median_actuating_hinge">
    <visual>
      <origin rpy="0 0 0" xyz="0 0 0"/>
      <geometry>
        <box size=".02 .02 .002"/>
      </geometry>
    </visual>
    <collision>
      <origin rpy="0 0 0" xyz="0 0 0"/>
      <geometry>
        <box size=".02 .02 .002"/>
      </geometry>
    </collision>
    <inertial>
      <origin rpy="0 0 0" xyz="0.0092 0.00514 0"/>
      <mass value="0.00359"/>
      <inertia ixx="0.00000024735" ixy="0.00000023619" ixz="0" iyy="0.00000047681" iyz="0" izz="0.00000071813"/>
    </inertial>
  </link>
  <gazebo reference="gripperfinger_2_link_median_actuating_hinge">
    <mu1>1.1</mu1>
    <mu2>1.1</mu2>
  </gazebo>
  <!-- Link median bar -->
  <link name="gripperfinger_2_link_median_bar">
    <visual>
      <origin rpy="0 0 0" xyz="0.01905 0 0"/>
      <geometry>
        <box size="0.0381 .0075 .002"/>
      </geometry>
    </visual>
    <collision>
      <origin rpy="0 0 0" xyz="0.01905 0 0"/>
      <geometry>
        <box size="0.0381 .0075 .002"/>
      </geometry>
    </collision>
    <inertial>
      <origin rpy="0 0 0" xyz="0.01905 -0.00107 0"/>
      <mass value="0.00538"/>
      <inertia ixx="0.00000006639" ixy="-0.00000010996" ixz="0.00000000094" iyy="0.00000305318" iyz="0" izz="0.00000304657"/>
    </inertial>
  </link>
  <gazebo reference="gripperfinger_2_link_median_bar">
    <mu1>1.1</mu1>
    <mu2>1.1</mu2>
  </gazebo>
  <!-- Link paramedian hinge -->
  <link name="gripperfinger_2_link_paramedian_hinge">
    <visual>
      <origin rpy="0 0 0" xyz="0 0 0"/>
      <geometry>
        <box size=".02 .02 .002"/>
      </geometry>
    </visual>
    <collision>
      <origin rpy="0 0 0" xyz="0 0 0"/>
      <geometry>
        <box size=".02 .02 .002"/>
      </geometry>
    </collision>
    <inertial>
      <origin rpy="0 0 0" xyz="-0.01025 0.00046 0"/>
      <mass value="0.00276"/>
      <inertia ixx="0.00000004213" ixy="-0.00000001491" ixz="0" iyy="0.00000050258" iyz="0" izz="0.00000054007"/>
    </inertial>
  </link>
  <gazebo reference="gripperfinger_2_link_paramedian_hinge">
    <mu1>1.1</mu1>
    <mu2>1.1</mu2>
  </gazebo>
  <!-- Link median bar underactuated -->
  <link name="gripperfinger_2_link_median_bar_underactuated">
    <visual>
      <origin rpy="0 0 0" xyz="0.01905 0 0"/>
      <geometry>
        <box size="0.0381 .0075 .002"/>
      </geometry>
    </visual>
    <collision>
      <origin rpy="0 0 0" xyz="0.01905 0 0"/>
      <geometry>
        <box size="0.0381 .0075 .002"/>
      </geometry>
    </collision>
    <inertial>
      <origin rpy="0 0 0" xyz="0.01905 -0.00107 0"/>
      <mass value="0.00538"/>
      <inertia ixx="0.00000006639" ixy="-0.00000010996" ixz="-0.00000000094" iyy="0.00000305318" iyz="0" izz="0.00000304657"/>
    </inertial>
  </link>
  <gazebo reference="gripperfinger_2_link_median_bar_underactuated">
    <mu1>1.1</mu1>
    <mu2>1.1</mu2>
  </gazebo>
  <!-- Link paradistal hinge -->
  <link name="gripperfinger_2_link_paradistal_hinge">
    <visual>
      <origin rpy="0 0 0" xyz="0 0 0"/>
      <geometry>
        <box size=".02 .02 .002"/>
      </geometry>
    </visual>
    <collision>
      <origin rpy="0 0 0" xyz="0 0 0"/>
      <geometry>
        <box size=".02 0.02 .002"/>
      </geometry>
    </collision>
    <inertial>
      <origin rpy="0 0 0" xyz="0.00548 0 0"/>
      <mass value="0.00158"/>
      <inertia ixx="0.00000001907" ixy="0" ixz="0" iyy="0.00000010970" iyz="0" izz="0.00000012610"/>
    </inertial>
  </link>
  <gazebo reference="gripperfinger_2_link_paradistal_hinge">
    <mu1>1.1</mu1>
    <mu2>1.1</mu2>
  </gazebo>
  <!-- End of link list -->
  <!-- Joint list -->
  <!-- Joint proximal actuating hinge -->
  <joint name="gripperfinger_2_joint_proximal_actuating_hinge" type="revolute">
    <parent link="gripperfinger_2_link_0"/>
    <child link="gripperfinger_2_link_proximal_actuating_hinge"/>
    <axis xyz="0 0 1"/>
    <origin rpy="0 0 -2.0906" xyz="0 0 0.01"/>
    <limit effort="100" lower="-3.1416" upper="3.1416" velocity="100"/>
  </joint>
  <gazebo reference="gripperfinger_2_joint_proximal_actuating_hinge">
    <implicitSpringDamper>1</implicitSpringDamper>
  </gazebo>
  <!-- Joint paraproximal actuating hinge -->
  <joint name="gripperfinger_2_joint_paraproximal_actuating_hinge" type="revolute">
    <parent link="gripperfinger_2_link_0"/>
    <child link="gripperfinger_2_link_paraproximal_actuating_hinge"/>
    <axis xyz="0 0 1"/>
    <origin rpy="0 0 -2.0906" xyz="0 0 -0.01"/>
    <limit effort="100" lower="-3.1416" upper="3.1416" velocity="100"/>
  </joint>
  <gazebo reference="gripperfinger_2_joint_paraproximal_actuating_hinge">
    <implicitSpringDamper>1</implicitSpringDamper>
  </gazebo>
  <!-- Joint proximal actuating bar -->
  <joint name="gripperfinger_2_joint_proximal_actuating_bar" type="revolute">
    <parent link="gripperfinger_2_link_proximal_actuating_hinge"/>
    <child link="gripperfinger_2_link_proximal_actuating_bar"/>
    <axis xyz="0 0 1"/>
    <origin rpy="0 0 1.8616" xyz="0.02858 0 0"/>
    <limit effort="100" lower="-3.1416" upper="3.1416" velocity="100"/>
  </joint>
  <gazebo reference="gripperfinger_2_joint_proximal_actuating_bar">
    <implicitSpringDamper>1</implicitSpringDamper>
  </gazebo>
  <!-- Joint paraproximal bar -->
  <joint name="gripperfinger_2_joint_paraproximal_bar" type="revolute">
    <parent link="gripperfinger_2_link_paraproximal_actuating_hinge"/>
    <child link="gripperfinger_2_link_paraproximal_bar"/>
    <axis xyz="0 0 1"/>
    <origin rpy="0 0 1.57" xyz="0.02286 0 0"/>
    <limit effort="100" lower="-3.1416" upper="3.1416" velocity="100"/>
  </joint>
  <gazebo reference="gripperfinger_2_joint_paraproximal_bar">
    <implicitSpringDamper>1</implicitSpringDamper>
  </gazebo>
  <!-- Joint median actuating hinge -->
  <joint name="gripperfinger_2_joint_median_actuating_hinge" type="revolute">
    <parent link="gripperfinger_2_link_1"/>
    <child link="gripperfinger_2_link_median_actuating_hinge"/>
    <axis xyz="0 0 1"/>
    <origin rpy="0 0 -0.37" xyz="0 0.05715 0.01"/>
    <limit effort="100" lower="-3.1416" upper="3.1416" velocity="100"/>
  </joint>
  <gazebo reference="gripperfinger_2_joint_median_actuating_hinge">
    <implicitSpringDamper>1</implicitSpringDamper>
  </gazebo>
  <!-- Joint paramedian hinge -->
  <joint name="gripperfinger_2_joint_paramedian_hinge" type="revolute">
    <parent link="gripperfinger_2_link_1"/>
    <child link="gripperfinger_2_link_paramedian_hinge"/>
    <axis xyz="0 0 1"/>
    <!-- -0.37 is hand picked, 0.9719 is hand calculated from atan(0.02381/0.01625) -->
    <origin rpy="0 0 0" xyz="0 0.05715 -0.01"/>
    <limit effort="100" lower="-3.1416" upper="3.1416" velocity="100"/>
  </joint>
  <gazebo reference="gripperfinger_2_joint_paramedian_hinge">
    <implicitSpringDamper>1</implicitSpringDamper>
  </gazebo>
  <!-- Joint median actuating hinge median bar -->
  <joint name="gripperfinger_2_joint_median_actuating_hinge_median_bar" type="revolute">
    <parent link="gripperfinger_2_link_median_actuating_hinge"/>
    <child link="gripperfinger_2_link_median_bar"/>
    <axis xyz="0 0 1"/>
    <!-- hand calc 90 deg + atan(0.01516/0.01625) -->
    <origin rpy="0 0 2.3215" xyz="0.01625 0.01516 0"/>
    <limit effort="100" lower="-3.1416" upper="3.1416" velocity="100"/>
  </joint>
  <gazebo reference="gripperfinger_2_joint_median_actuating_hinge_median_bar">
    <implicitSpringDamper>1</implicitSpringDamper>
  </gazebo>
  <!-- Joint paradistal hinge -->
  <joint name="gripperfinger_2_joint_paradistal_hinge" type="revolute">
    <parent link="gripperfinger_2_link_2"/>
    <child link="gripperfinger_2_link_paradistal_hinge"/>
    <axis xyz="0 0 1"/>
    <origin rpy="0 0 0" xyz="0 0.039 -0.01"/>
    <limit effort="100" lower="-3.1416" upper="3.1416" velocity="100"/>
  </joint>
  <gazebo reference="gripperfinger_2_joint_paradistal_hinge">
    <implicitSpringDamper>1</implicitSpringDamper>
  </gazebo>
  <!-- Joint paramedian hinge median bar underactuated -->
  <joint name="gripperfinger_2_joint_paramedian_hinge_median_bar_underactuated" type="revolute">
    <parent link="gripperfinger_2_link_paramedian_hinge"/>
    <child link="gripperfinger_2_link_median_bar_underactuated"/>
    <axis xyz="0 0 1"/>
    <!-- hand calc 90 deg + atan(0.01227/0.00329) -->
    <origin rpy="0 0 1.5708" xyz="0.01227 0.00329 0"/>
    <limit effort="100" lower="-3.1416" upper="3.1416" velocity="100"/>
  </joint>
  <gazebo reference="gripperfinger_2_joint_paramedian_hinge_median_bar_underactuated">
    <implicitSpringDamper>1</implicitSpringDamper>
  </gazebo>
  <!-- Joint 1 -->
  <joint name="gripperfinger_2_joint_1" type="revolute">
    <origin rpy="0 0 -2.0906" xyz="0 0 0"/>
    <axis xyz="0 0 1"/>
    <parent link="gripperfinger_2_link_0"/>
    <child link="gripperfinger_2_link_1"/>
    <dynamics damping="1" friction="0"/>
    <!-- Limits: [0deg.,70deg.] -->
    <limit effort="60" lower="0" upper="1.2217" velocity="-1"/>
  </joint>
  <gazebo reference="gripperfinger_2_joint_1">
    <implicitSpringDamper>1</implicitSpringDamper>
  </gazebo>
  <!-- Joint 2 -->
  <joint name="gripperfinger_2_joint_2" type="revolute">
    <parent link="gripperfinger_2_link_1"/>
    <child link="gripperfinger_2_link_2"/>
    <dynamics damping="1" friction="0"/>
    <axis xyz="0 0 1"/>
    <origin rpy="0 0 0" xyz="0 0.05715 0"/>
    <!-- Limits: [0deg.,90deg.] -->
    <limit effort="60" lower="0" upper="1.5708" velocity="-1"/>
  </joint>
  <gazebo reference="gripperfinger_2_joint_2">
    <implicitSpringDamper>1</implicitSpringDamper>
  </gazebo>
  <!-- Joint 3 -->
  <joint name="gripperfinger_2_joint_3" type="revolute">
    <parent link="gripperfinger_2_link_2"/>
    <child link="gripperfinger_2_link_3"/>
    <dynamics damping="1" friction="0"/>
    <axis xyz="0 0 1"/>
    <origin rpy="0 0 2.0906" xyz="0 0.039 0"/>
    <!-- Limits: [-38deg.,60deg.] -->
    <limit effort="60" lower="-0.6632" upper="1.0471" velocity="-1"/>
  </joint>
  <gazebo reference="gripperfinger_2_joint_3">
    <implicitSpringDamper>1</implicitSpringDamper>
  </gazebo>
  <!-- end of joint list -->
  <!-- coupling joints in sdf -->
  <gazebo>
    <joint name="gripperfinger_2_link_proximal_actuating_bar_median_actuating_hinge_couple" type="revolute">
      <parent>gripperfinger_2_link_median_actuating_hinge</parent>
      <child>gripperfinger_2_link_proximal_actuating_bar</child>
      <pose>0.05398 0 0 0 0 0</pose>
      <axis>
        <dynamics>
          <damping>0</damping>
          <friction>0</friction>
        </dynamics>
        <xyz>0 0 1</xyz>
        <!-- <use_parent_model_frame>false</use_parent_model_frame> -->
      </axis>
    </joint>
  </gazebo>
  <gazebo reference="gripperfinger_2_link_proximal_actuating_bar_median_actuating_hinge_couple">
    <implicitSpringDamper>1</implicitSpringDamper>
  </gazebo>
  <gazebo>
    <joint name="gripperfinger_2_link_median_bar_link_3_couple" type="revolute">
      <parent>gripperfinger_2_link_3</parent>
      <child>gripperfinger_2_link_median_bar</child>
      <pose>0.0381 0 0 0 0 0</pose>
      <axis>
        <dynamics>
          <damping>0</damping>
          <friction>0</friction>
        </dynamics>
        <xyz>0 0 1</xyz>
        <!-- <use_parent_model_frame>false</use_parent_model_frame> -->
      </axis>
    </joint>
  </gazebo>
  <gazebo reference="gripperfinger_2_link_median_bar_link_3_couple">
    <implicitSpringDamper>1</implicitSpringDamper>
  </gazebo>
  <gazebo>
    <joint name="gripperfinger_2_link_paramedian_bar_paradistal_hinge_couple" type="revolute">
      <parent>gripperfinger_2_link_paradistal_hinge</parent>
      <child>gripperfinger_2_link_median_bar_underactuated</child>
      <pose>0.0381 0 0 0 0 0</pose>
      <axis>
        <dynamics>
          <damping>0</damping>
          <friction>0</friction>
        </dynamics>
        <xyz>0 0 1</xyz>
        <!-- <use_parent_model_frame>false</use_parent_model_frame> -->
      </axis>
    </joint>
  </gazebo>
  <gazebo reference="gripperfinger_2_link_median_bar_link_3_couple">
    <implicitSpringDamper>1</implicitSpringDamper>
  </gazebo>
  <gazebo>
    <joint name="gripperfinger_2_link_paradistal_hinge_link_3_couple" type="revolute">
      <parent>gripperfinger_2_link_paradistal_hinge</parent>
      <child>gripperfinger_2_link_3</child>
      <pose>0.0381 0 0 0 0 0</pose>
      <axis>
        <dynamics>
          <damping>0</damping>
          <friction>0</friction>
        </dynamics>
        <xyz>0 0 1</xyz>
        <!-- <use_parent_model_frame>false</use_parent_model_frame> -->
      </axis>
    </joint>
  </gazebo>
  <gazebo reference="gripperfinger_2_link_paradistal_hinge_link_3_couple">
    <implicitSpringDamper>1</implicitSpringDamper>
  </gazebo>
  <gazebo>
    <joint name="gripperfinger_2_link_paraproximal_bar_paramedian_hinge_couple" type="revolute">
      <parent>gripperfinger_2_link_paramedian_hinge</parent>
      <child>gripperfinger_2_link_paraproximal_bar</child>
      <pose>0.05770 0 0 0 0 0</pose>
      <axis>
        <dynamics>
          <damping>0</damping>
          <friction>0</friction>
        </dynamics>
        <xyz>0 0 1</xyz>
        <!-- <use_parent_model_frame>false</use_parent_model_frame> -->
      </axis>
    </joint>
  </gazebo>
  <gazebo reference="gripperfinger_2_link_paraproximal_bar_paramedian_hinge_couple">
    <implicitSpringDamper>1</implicitSpringDamper>
  </gazebo>
  <!-- Link list -->
  <!-- Link 0 -->
  <link name="gripperfinger_middle_link_0">
    <visual>
      <origin rpy="0 0 0" xyz="0 0 0"/>
      <geometry>
        <mesh filename="package://robotiq_s_model_visualization/meshes/s-model_articulated/visual/link_0.STL"/>
      </geometry>
      <material name="green">
        <color rgba="0 1 0 1"/>
      </material>
    </visual>
    <collision>
      <origin rpy="0 0 0" xyz="0 0 0"/>
      <geometry>
        <mesh filename="package://robotiq_s_model_visualization/meshes/s-model_articulated/collision/link_0.STL"/>
      </geometry>
      <material name="yellow">
        <color rgba="0 1 1 1"/>
      </material>
    </collision>
    <inertial>
      <mass value="0.1"/>
      <origin xyz="-0.01 0 0"/>
      <inertia ixx="0.000018" ixy="0" ixz="0" iyy="0.000025" iyz="0" izz="0.000025"/>
    </inertial>
  </link>
  <gazebo reference="gripperfinger_middle_link_0">
    <mu1>1.1</mu1>
    <mu2>1.1</mu2>
  </gazebo>
  <!-- Link 1 -->
  <link name="gripperfinger_middle_link_1">
    <visual>
      <origin rpy="0 0 1.5708" xyz="0 0.05717 0"/>
      <geometry>
        <mesh filename="package://robotiq_s_model_visualization/meshes/s-model_articulated/visual/link_1.STL"/>
      </geometry>
      <material name="green"/>
    </visual>
    <collision>
      <origin rpy="0 0 1.5708" xyz="0 0.05717 0"/>
      <geometry>
        <mesh filename="package://robotiq_s_model_visualization/meshes/s-model_articulated/collision/link_1.STL"/>
      </geometry>
      <material name="yellow">
        <color rgba="0 1 1 1"/>
      </material>
    </collision>
    <inertial>
      <origin rpy="0 0 1.5708" xyz="0.00053 0.03218 0"/>
      <mass value="0.047"/>
      <inertia ixx="0.00000499332" ixy="0.00000091312" ixz="-0.00000000120" iyy="0.00006434531" iyz="-0.00000000007" izz="0.00006061917"/>
    </inertial>
  </link>
  <gazebo reference="gripperfinger_middle_link_1">
    <mu1>1.1</mu1>
    <mu2>1.1</mu2>
  </gazebo>
  <!-- Link 2 -->
  <link name="gripperfinger_middle_link_2">
    <visual>
      <origin rpy="0 0 1.5708" xyz="0 0.03810 0.0075"/>
      <geometry>
        <mesh filename="package://robotiq_s_model_visualization/meshes/s-model_articulated/visual/link_2.STL"/>
      </geometry>
      <material name="green"/>
    </visual>
    <collision>
      <origin rpy="0 0 1.5708" xyz="0 0.03810 0.0075"/>
      <geometry>
        <mesh filename="package://robotiq_s_model_visualization/meshes/s-model_articulated/collision/link_2.STL"/>
      </geometry>
      <material name="yellow"/>
    </collision>
    <inertial>
      <origin rpy="0 0 1.5708" xyz="0.00048 0.02167 0.00018"/>
      <mass value="0.03284"/>
      <inertia ixx="0.00000348008" ixy="0.00000031940" ixz="0.00000013041" iyy="0.00002248123" iyz="0.00000000291" izz="0.00001986346"/>
    </inertial>
  </link>
  <gazebo reference="gripperfinger_middle_link_2">
    <mu1>1.1</mu1>
    <mu2>1.1</mu2>
  </gazebo>
  <!-- Link 3 -->
  <link name="gripperfinger_middle_link_3">
    <visual>
      <origin rpy="0 0 0" xyz="0 0 0"/>
      <geometry>
        <mesh filename="package://robotiq_s_model_visualization/meshes/s-model_articulated/visual/link_3.STL"/>
      </geometry>
      <material name="green"/>
    </visual>
    <collision>
      <origin rpy="0 0 0" xyz="0 0 0"/>
      <geometry>
        <mesh filename="package://robotiq_s_model_visualization/meshes/s-model_articulated/collision/link_3.STL"/>
      </geometry>
      <material name="yellow"/>
    </collision>
    <inertial>
      <origin rpy="0 0 0" xyz="0.01626 0.00049 0.0002"/>
      <mass value="0.03354"/>
      <inertia ixx="0.00000305151" ixy="0.00000089792" ixz="0.00000000249" iyy="0.00001427978" iyz="-0.00000001191" izz="0.00001264126"/>
    </inertial>
  </link>
  <gazebo reference="gripperfinger_middle_link_3">
    <mu1>1.1</mu1>
    <mu2>1.1</mu2>
  </gazebo>
  <!-- Link proximal actuating hinge -->
  <link name="gripperfinger_middle_link_proximal_actuating_hinge">
    <visual>
      <origin rpy="0 0 0" xyz="0.01429 0 0"/>
      <geometry>
        <box size="0.02858 .0075 .002"/>
      </geometry>
    </visual>
    <collision>
      <origin rpy="0 0 0" xyz="0.01429 0 0"/>
      <geometry>
        <box size="0.02858 .0075 .002"/>
      </geometry>
    </collision>
    <inertial>
      <origin rpy="0 0 0" xyz="0.0012 -0.00162 -0.00161"/>
      <mass value="0.02647"/>
      <inertia ixx="0.00000156447" ixy="0.000000236226" ixz="-0.00000014862" iyy="0.00000221068" iyz="-0.00000014369" izz="0.00000323175"/>
    </inertial>
  </link>
  <gazebo reference="gripperfinger_middle_link_proximal_actuating_hinge">
    <mu1>1.1</mu1>
    <mu2>1.1</mu2>
  </gazebo>
  <!-- Link paraproximal actuating hinge -->
  <link name="gripperfinger_middle_link_paraproximal_actuating_hinge">
    <visual>
      <origin rpy="0 0 0" xyz="0.01143 0 0"/>
      <geometry>
        <box size="0.02286 .0075 .002"/>
      </geometry>
    </visual>
    <collision>
      <origin rpy="0 0 0" xyz="0.01143 0 0"/>
      <geometry>
        <box size="0.02286 .0075 .002"/>
      </geometry>
    </collision>
    <inertial>
      <origin rpy="0 0 0" xyz="0.0064 0 0"/>
      <!-- copied from proximal_actuating_hinge -->
      <mass value="0.00362"/>
      <inertia ixx="0.00000012043" ixy="0" ixz="0" iyy="0.00000053588" iyz="0" izz="0.00000065322"/>
    </inertial>
  </link>
  <gazebo reference="gripperfinger_middle_link_paraproximal_actuating_hinge">
    <mu1>1.1</mu1>
    <mu2>1.1</mu2>
  </gazebo>
  <!-- Link proximal actuating bar -->
  <link name="gripperfinger_middle_link_proximal_actuating_bar">
    <visual>
      <origin rpy="0 0 0" xyz="0.026789 0 0"/>
      <geometry>
        <box size="0.05398 .0075 .002"/>
      </geometry>
    </visual>
    <collision>
      <origin rpy="0 0 0" xyz="0.026789 0 0"/>
      <geometry>
        <box size="0.05398 .0075 .002"/>
      </geometry>
    </collision>
    <inertial>
      <origin rpy="0 0 0" xyz="0.02699 -0.00122 0"/>
      <mass value="0.00659"/>
      <inertia ixx="0.00000008348" ixy="-0.0000002179" ixz="0.00000000134" iyy="0.00000719076" iyz="0" izz="0.00000718272"/>
    </inertial>
  </link>
  <gazebo reference="gripperfinger_middle_link_proximal_actuating_bar">
    <mu1>1.1</mu1>
    <mu2>1.1</mu2>
  </gazebo>
  <!-- Link paraproximal bar -->
  <link name="gripperfinger_middle_link_paraproximal_bar">
    <visual>
      <origin rpy="0 0 0" xyz="0.02885 0 0"/>
      <geometry>
        <box size="0.05770 .0075 .002"/>
      </geometry>
    </visual>
    <collision>
      <origin rpy="0 0 0" xyz="0.02885 0 0"/>
      <geometry>
        <box size="0.05770 .0075 .002"/>
      </geometry>
    </collision>
    <inertial>
      <origin rpy="0 0 0" xyz="0.02858 -0.00129 0"/>
      <mass value="0.00732"/>
      <inertia ixx="0.00000009065" ixy="-0.00000027047" ixz="0.00000000142" iyy="0.00000878034" iyz="0" izz="0.00000877558"/>
    </inertial>
  </link>
  <gazebo reference="gripperfinger_middle_link_paraproximal_bar">
    <mu1>1.1</mu1>
    <mu2>1.1</mu2>
  </gazebo>
  <!-- Link median actuating hinge -->
  <link name="gripperfinger_middle_link_median_actuating_hinge">
    <visual>
      <origin rpy="0 0 0" xyz="0 0 0"/>
      <geometry>
        <box size=".02 .02 .002"/>
      </geometry>
    </visual>
    <collision>
      <origin rpy="0 0 0" xyz="0 0 0"/>
      <geometry>
        <box size=".02 .02 .002"/>
      </geometry>
    </collision>
    <inertial>
      <origin rpy="0 0 0" xyz="0.0092 0.00514 0"/>
      <mass value="0.00359"/>
      <inertia ixx="0.00000024735" ixy="0.00000023619" ixz="0" iyy="0.00000047681" iyz="0" izz="0.00000071813"/>
    </inertial>
  </link>
  <gazebo reference="gripperfinger_middle_link_median_actuating_hinge">
    <mu1>1.1</mu1>
    <mu2>1.1</mu2>
  </gazebo>
  <!-- Link median bar -->
  <link name="gripperfinger_middle_link_median_bar">
    <visual>
      <origin rpy="0 0 0" xyz="0.01905 0 0"/>
      <geometry>
        <box size="0.0381 .0075 .002"/>
      </geometry>
    </visual>
    <collision>
      <origin rpy="0 0 0" xyz="0.01905 0 0"/>
      <geometry>
        <box size="0.0381 .0075 .002"/>
      </geometry>
    </collision>
    <inertial>
      <origin rpy="0 0 0" xyz="0.01905 -0.00107 0"/>
      <mass value="0.00538"/>
      <inertia ixx="0.00000006639" ixy="-0.00000010996" ixz="0.00000000094" iyy="0.00000305318" iyz="0" izz="0.00000304657"/>
    </inertial>
  </link>
  <gazebo reference="gripperfinger_middle_link_median_bar">
    <mu1>1.1</mu1>
    <mu2>1.1</mu2>
  </gazebo>
  <!-- Link paramedian hinge -->
  <link name="gripperfinger_middle_link_paramedian_hinge">
    <visual>
      <origin rpy="0 0 0" xyz="0 0 0"/>
      <geometry>
        <box size=".02 .02 .002"/>
      </geometry>
    </visual>
    <collision>
      <origin rpy="0 0 0" xyz="0 0 0"/>
      <geometry>
        <box size=".02 .02 .002"/>
      </geometry>
    </collision>
    <inertial>
      <origin rpy="0 0 0" xyz="-0.01025 0.00046 0"/>
      <mass value="0.00276"/>
      <inertia ixx="0.00000004213" ixy="-0.00000001491" ixz="0" iyy="0.00000050258" iyz="0" izz="0.00000054007"/>
    </inertial>
  </link>
  <gazebo reference="gripperfinger_middle_link_paramedian_hinge">
    <mu1>1.1</mu1>
    <mu2>1.1</mu2>
  </gazebo>
  <!-- Link median bar underactuated -->
  <link name="gripperfinger_middle_link_median_bar_underactuated">
    <visual>
      <origin rpy="0 0 0" xyz="0.01905 0 0"/>
      <geometry>
        <box size="0.0381 .0075 .002"/>
      </geometry>
    </visual>
    <collision>
      <origin rpy="0 0 0" xyz="0.01905 0 0"/>
      <geometry>
        <box size="0.0381 .0075 .002"/>
      </geometry>
    </collision>
    <inertial>
      <origin rpy="0 0 0" xyz="0.01905 -0.00107 0"/>
      <mass value="0.00538"/>
      <inertia ixx="0.00000006639" ixy="-0.00000010996" ixz="-0.00000000094" iyy="0.00000305318" iyz="0" izz="0.00000304657"/>
    </inertial>
  </link>
  <gazebo reference="gripperfinger_middle_link_median_bar_underactuated">
    <mu1>1.1</mu1>
    <mu2>1.1</mu2>
  </gazebo>
  <!-- Link paradistal hinge -->
  <link name="gripperfinger_middle_link_paradistal_hinge">
    <visual>
      <origin rpy="0 0 0" xyz="0 0 0"/>
      <geometry>
        <box size=".02 .02 .002"/>
      </geometry>
    </visual>
    <collision>
      <origin rpy="0 0 0" xyz="0 0 0"/>
      <geometry>
        <box size=".02 0.02 .002"/>
      </geometry>
    </collision>
    <inertial>
      <origin rpy="0 0 0" xyz="0.00548 0 0"/>
      <mass value="0.00158"/>
      <inertia ixx="0.00000001907" ixy="0" ixz="0" iyy="0.00000010970" iyz="0" izz="0.00000012610"/>
    </inertial>
  </link>
  <gazebo reference="gripperfinger_middle_link_paradistal_hinge">
    <mu1>1.1</mu1>
    <mu2>1.1</mu2>
  </gazebo>
  <!-- End of link list -->
  <!-- Joint list -->
  <!-- Joint proximal actuating hinge -->
  <joint name="gripperfinger_middle_joint_proximal_actuating_hinge" type="revolute">
    <parent link="gripperfinger_middle_link_0"/>
    <child link="gripperfinger_middle_link_proximal_actuating_hinge"/>
    <axis xyz="0 0 1"/>
    <origin rpy="0 0 -2.0906" xyz="0 0 0.01"/>
    <limit effort="100" lower="-3.1416" upper="3.1416" velocity="100"/>
  </joint>
  <gazebo reference="gripperfinger_middle_joint_proximal_actuating_hinge">
    <implicitSpringDamper>1</implicitSpringDamper>
  </gazebo>
  <!-- Joint paraproximal actuating hinge -->
  <joint name="gripperfinger_middle_joint_paraproximal_actuating_hinge" type="revolute">
    <parent link="gripperfinger_middle_link_0"/>
    <child link="gripperfinger_middle_link_paraproximal_actuating_hinge"/>
    <axis xyz="0 0 1"/>
    <origin rpy="0 0 -2.0906" xyz="0 0 -0.01"/>
    <limit effort="100" lower="-3.1416" upper="3.1416" velocity="100"/>
  </joint>
  <gazebo reference="gripperfinger_middle_joint_paraproximal_actuating_hinge">
    <implicitSpringDamper>1</implicitSpringDamper>
  </gazebo>
  <!-- Joint proximal actuating bar -->
  <joint name="gripperfinger_middle_joint_proximal_actuating_bar" type="revolute">
    <parent link="gripperfinger_middle_link_proximal_actuating_hinge"/>
    <child link="gripperfinger_middle_link_proximal_actuating_bar"/>
    <axis xyz="0 0 1"/>
    <origin rpy="0 0 1.8616" xyz="0.02858 0 0"/>
    <limit effort="100" lower="-3.1416" upper="3.1416" velocity="100"/>
  </joint>
  <gazebo reference="gripperfinger_middle_joint_proximal_actuating_bar">
    <implicitSpringDamper>1</implicitSpringDamper>
  </gazebo>
  <!-- Joint paraproximal bar -->
  <joint name="gripperfinger_middle_joint_paraproximal_bar" type="revolute">
    <parent link="gripperfinger_middle_link_paraproximal_actuating_hinge"/>
    <child link="gripperfinger_middle_link_paraproximal_bar"/>
    <axis xyz="0 0 1"/>
    <origin rpy="0 0 1.57" xyz="0.02286 0 0"/>
    <limit effort="100" lower="-3.1416" upper="3.1416" velocity="100"/>
  </joint>
  <gazebo reference="gripperfinger_middle_joint_paraproximal_bar">
    <implicitSpringDamper>1</implicitSpringDamper>
  </gazebo>
  <!-- Joint median actuating hinge -->
  <joint name="gripperfinger_middle_joint_median_actuating_hinge" type="revolute">
    <parent link="gripperfinger_middle_link_1"/>
    <child link="gripperfinger_middle_link_median_actuating_hinge"/>
    <axis xyz="0 0 1"/>
    <origin rpy="0 0 -0.37" xyz="0 0.05715 0.01"/>
    <limit effort="100" lower="-3.1416" upper="3.1416" velocity="100"/>
  </joint>
  <gazebo reference="gripperfinger_middle_joint_median_actuating_hinge">
    <implicitSpringDamper>1</implicitSpringDamper>
  </gazebo>
  <!-- Joint paramedian hinge -->
  <joint name="gripperfinger_middle_joint_paramedian_hinge" type="revolute">
    <parent link="gripperfinger_middle_link_1"/>
    <child link="gripperfinger_middle_link_paramedian_hinge"/>
    <axis xyz="0 0 1"/>
    <!-- -0.37 is hand picked, 0.9719 is hand calculated from atan(0.02381/0.01625) -->
    <origin rpy="0 0 0" xyz="0 0.05715 -0.01"/>
    <limit effort="100" lower="-3.1416" upper="3.1416" velocity="100"/>
  </joint>
  <gazebo reference="gripperfinger_middle_joint_paramedian_hinge">
    <implicitSpringDamper>1</implicitSpringDamper>
  </gazebo>
  <!-- Joint median actuating hinge median bar -->
  <joint name="gripperfinger_middle_joint_median_actuating_hinge_median_bar" type="revolute">
    <parent link="gripperfinger_middle_link_median_actuating_hinge"/>
    <child link="gripperfinger_middle_link_median_bar"/>
    <axis xyz="0 0 1"/>
    <!-- hand calc 90 deg + atan(0.01516/0.01625) -->
    <origin rpy="0 0 2.3215" xyz="0.01625 0.01516 0"/>
    <limit effort="100" lower="-3.1416" upper="3.1416" velocity="100"/>
  </joint>
  <gazebo reference="gripperfinger_middle_joint_median_actuating_hinge_median_bar">
    <implicitSpringDamper>1</implicitSpringDamper>
  </gazebo>
  <!-- Joint paradistal hinge -->
  <joint name="gripperfinger_middle_joint_paradistal_hinge" type="revolute">
    <parent link="gripperfinger_middle_link_2"/>
    <child link="gripperfinger_middle_link_paradistal_hinge"/>
    <axis xyz="0 0 1"/>
    <origin rpy="0 0 0" xyz="0 0.039 -0.01"/>
    <limit effort="100" lower="-3.1416" upper="3.1416" velocity="100"/>
  </joint>
  <gazebo reference="gripperfinger_middle_joint_paradistal_hinge">
    <implicitSpringDamper>1</implicitSpringDamper>
  </gazebo>
  <!-- Joint paramedian hinge median bar underactuated -->
  <joint name="gripperfinger_middle_joint_paramedian_hinge_median_bar_underactuated" type="revolute">
    <parent link="gripperfinger_middle_link_paramedian_hinge"/>
    <child link="gripperfinger_middle_link_median_bar_underactuated"/>
    <axis xyz="0 0 1"/>
    <!-- hand calc 90 deg + atan(0.01227/0.00329) -->
    <origin rpy="0 0 1.5708" xyz="0.01227 0.00329 0"/>
    <limit effort="100" lower="-3.1416" upper="3.1416" velocity="100"/>
  </joint>
  <gazebo reference="gripperfinger_middle_joint_paramedian_hinge_median_bar_underactuated">
    <implicitSpringDamper>1</implicitSpringDamper>
  </gazebo>
  <!-- Joint 1 -->
  <joint name="gripperfinger_middle_joint_1" type="revolute">
    <origin rpy="0 0 -2.0906" xyz="0 0 0"/>
    <axis xyz="0 0 1"/>
    <parent link="gripperfinger_middle_link_0"/>
    <child link="gripperfinger_middle_link_1"/>
    <dynamics damping="1" friction="0"/>
    <!-- Limits: [0deg.,70deg.] -->
    <limit effort="60" lower="0" upper="1.2217" velocity="-1"/>
  </joint>
  <gazebo reference="gripperfinger_middle_joint_1">
    <implicitSpringDamper>1</implicitSpringDamper>
  </gazebo>
  <!-- Joint 2 -->
  <joint name="gripperfinger_middle_joint_2" type="revolute">
    <parent link="gripperfinger_middle_link_1"/>
    <child link="gripperfinger_middle_link_2"/>
    <dynamics damping="1" friction="0"/>
    <axis xyz="0 0 1"/>
    <origin rpy="0 0 0" xyz="0 0.05715 0"/>
    <!-- Limits: [0deg.,90deg.] -->
    <limit effort="60" lower="0" upper="1.5708" velocity="-1"/>
  </joint>
  <gazebo reference="gripperfinger_middle_joint_2">
    <implicitSpringDamper>1</implicitSpringDamper>
  </gazebo>
  <!-- Joint 3 -->
  <joint name="gripperfinger_middle_joint_3" type="revolute">
    <parent link="gripperfinger_middle_link_2"/>
    <child link="gripperfinger_middle_link_3"/>
    <dynamics damping="1" friction="0"/>
    <axis xyz="0 0 1"/>
    <origin rpy="0 0 2.0906" xyz="0 0.039 0"/>
    <!-- Limits: [-38deg.,60deg.] -->
    <limit effort="60" lower="-0.6632" upper="1.0471" velocity="-1"/>
  </joint>
  <gazebo reference="gripperfinger_middle_joint_3">
    <implicitSpringDamper>1</implicitSpringDamper>
  </gazebo>
  <!-- end of joint list -->
  <!-- coupling joints in sdf -->
  <gazebo>
    <joint name="gripperfinger_middle_link_proximal_actuating_bar_median_actuating_hinge_couple" type="revolute">
      <parent>gripperfinger_middle_link_median_actuating_hinge</parent>
      <child>gripperfinger_middle_link_proximal_actuating_bar</child>
      <pose>0.05398 0 0 0 0 0</pose>
      <axis>
        <dynamics>
          <damping>0</damping>
          <friction>0</friction>
        </dynamics>
        <xyz>0 0 1</xyz>
        <!-- <use_parent_model_frame>false</use_parent_model_frame> -->
      </axis>
    </joint>
  </gazebo>
  <gazebo reference="gripperfinger_middle_link_proximal_actuating_bar_median_actuating_hinge_couple">
    <implicitSpringDamper>1</implicitSpringDamper>
  </gazebo>
  <gazebo>
    <joint name="gripperfinger_middle_link_median_bar_link_3_couple" type="revolute">
      <parent>gripperfinger_middle_link_3</parent>
      <child>gripperfinger_middle_link_median_bar</child>
      <pose>0.0381 0 0 0 0 0</pose>
      <axis>
        <dynamics>
          <damping>0</damping>
          <friction>0</friction>
        </dynamics>
        <xyz>0 0 1</xyz>
        <!-- <use_parent_model_frame>false</use_parent_model_frame> -->
      </axis>
    </joint>
  </gazebo>
  <gazebo reference="gripperfinger_middle_link_median_bar_link_3_couple">
    <implicitSpringDamper>1</implicitSpringDamper>
  </gazebo>
  <gazebo>
    <joint name="gripperfinger_middle_link_paramedian_bar_paradistal_hinge_couple" type="revolute">
      <parent>gripperfinger_middle_link_paradistal_hinge</parent>
      <child>gripperfinger_middle_link_median_bar_underactuated</child>
      <pose>0.0381 0 0 0 0 0</pose>
      <axis>
        <dynamics>
          <damping>0</damping>
          <friction>0</friction>
        </dynamics>
        <xyz>0 0 1</xyz>
        <!-- <use_parent_model_frame>false</use_parent_model_frame> -->
      </axis>
    </joint>
  </gazebo>
  <gazebo reference="gripperfinger_middle_link_median_bar_link_3_couple">
    <implicitSpringDamper>1</implicitSpringDamper>
  </gazebo>
  <gazebo>
    <joint name="gripperfinger_middle_link_paradistal_hinge_link_3_couple" type="revolute">
      <parent>gripperfinger_middle_link_paradistal_hinge</parent>
      <child>gripperfinger_middle_link_3</child>
      <pose>0.0381 0 0 0 0 0</pose>
      <axis>
        <dynamics>
          <damping>0</damping>
          <friction>0</friction>
        </dynamics>
        <xyz>0 0 1</xyz>
        <!-- <use_parent_model_frame>false</use_parent_model_frame> -->
      </axis>
    </joint>
  </gazebo>
  <gazebo reference="gripperfinger_middle_link_paradistal_hinge_link_3_couple">
    <implicitSpringDamper>1</implicitSpringDamper>
  </gazebo>
  <gazebo>
    <joint name="gripperfinger_middle_link_paraproximal_bar_paramedian_hinge_couple" type="revolute">
      <parent>gripperfinger_middle_link_paramedian_hinge</parent>
      <child>gripperfinger_middle_link_paraproximal_bar</child>
      <pose>0.05770 0 0 0 0 0</pose>
      <axis>
        <dynamics>
          <damping>0</damping>
          <friction>0</friction>
        </dynamics>
        <xyz>0 0 1</xyz>
        <!-- <use_parent_model_frame>false</use_parent_model_frame> -->
      </axis>
    </joint>
  </gazebo>
  <gazebo reference="gripperfinger_middle_link_paraproximal_bar_paramedian_hinge_couple">
    <implicitSpringDamper>1</implicitSpringDamper>
  </gazebo>
  <!-- link list -->
  <!-- Link palm -->
  <link name="gripperpalm">
    <visual>
      <geometry>
        <mesh filename="package://robotiq_s_model_visualization/meshes/s-model_articulated/visual/palm.STL"/>
      </geometry>
      <material name="green">
        <color rgba="0 1 0 1"/>
      </material>
    </visual>
    <!-- Simple shape collision -->
    <collision>
      <origin rpy="0 0 0" xyz="0 0 0"/>
      <geometry>
        <box size="0.1 0.1 0.1"/>
      </geometry>
      <material name="yellow">
        <color rgba="0 1 1 1"/>
      </material>
    </collision>
    <inertial>
      <origin rpy="0 0 0" xyz="0 0 0"/>
      <mass value="1.3"/>
      <inertia ixx="0.0035" ixy="0" ixz="-0" iyy="0.0035" iyz="0" izz="0.0035"/>
    </inertial>
  </link>
  <gazebo reference="gripperpalm">
    <mu1>1.1</mu1>
    <mu2>1.1</mu2>
  </gazebo>
  <!-- End of link list -->
  <!-- Joint list -->
  <!-- Joint palm_finger_1_joint -->
  <joint name="gripperpalm_finger_1_joint" type="revolute">
    <parent link="gripperpalm"/>
    <child link="gripperfinger_1_link_0"/>
    <dynamics damping="1" friction="0"/>
    <axis xyz="0 1 0"/>
    <origin rpy="0 3.1416 -1.57" xyz="-0.0455 0.0214 0.036"/>
    <!-- Limits: [-17deg.,17deg.] -->
    <limit effort="60" lower="-0.2967" upper="0.2967" velocity="-1"/>
  </joint>
  <gazebo reference="gripperpalm_finger_1_joint">
    <implicitSpringDamper>1</implicitSpringDamper>
  </gazebo>
  <!-- Joint palm_finger_2_joint -->
  <joint name="gripperpalm_finger_2_joint" type="revolute">
    <parent link="gripperpalm"/>
    <child link="gripperfinger_2_link_0"/>
    <dynamics damping="1" friction="0"/>
    <axis xyz="0 1 0"/>
    <origin rpy="0 3.1416 -1.57" xyz="-0.0455 0.0214 -0.036"/>
    <!-- Limits: [-17deg.,17deg.] -->
    <limit effort="60" lower="-0.2967" upper="0.2967" velocity="-1"/>
  </joint>
  <gazebo reference="gripperpalm_finger_2_joint">
    <implicitSpringDamper>1</implicitSpringDamper>
  </gazebo>
  <!-- Joint palm_finger_middle_joint -->
  <joint name="gripperpalm_finger_middle_joint" type="revolute">
    <parent link="gripperpalm"/>
    <child link="gripperfinger_middle_link_0"/>
    <dynamics damping="1" friction="0"/>
    <axis xyz="0 1 0"/>
    <origin rpy="0 0 1.57" xyz="0.0455 0.0214 0"/>
    <limit effort="60" lower="0" upper="0" velocity="-1"/>
  </joint>
  <gazebo reference="gripperpalm_finger_middle_joint">
    <implicitSpringDamper>1</implicitSpringDamper>
  </gazebo>
  <!-- end of joint list -->
</robot>
